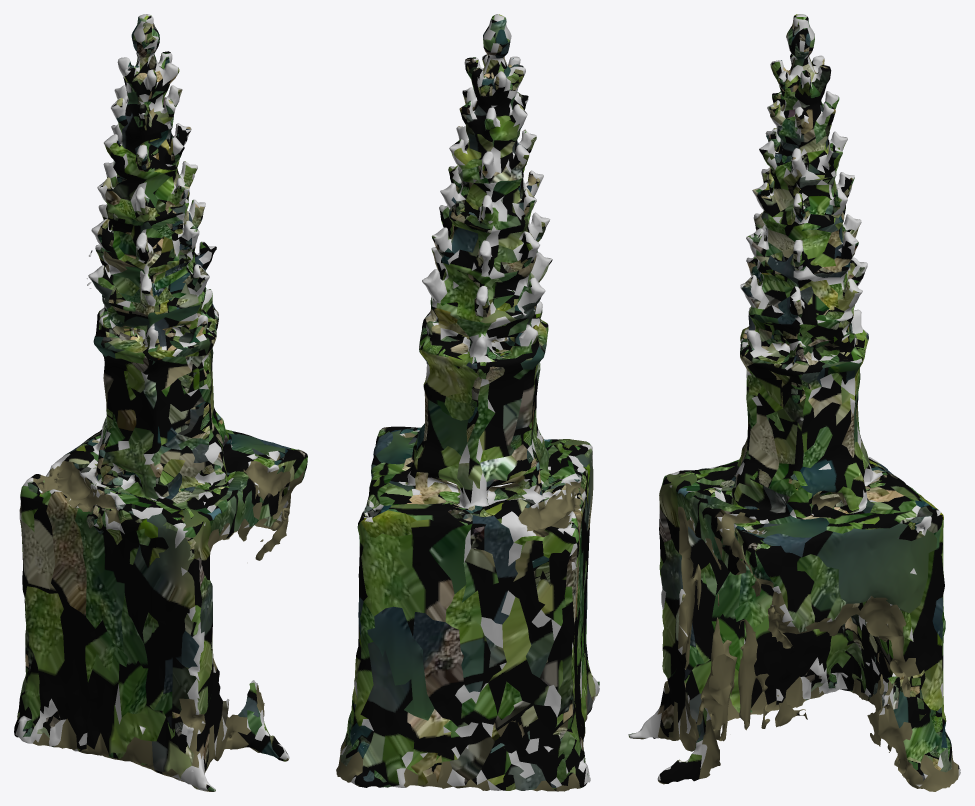
File: Cer_mica_nvg_melb_lowpoly.obj
The picture shows the model from 3 angles, left to right: view 1: azimuth 30°, elevation 25°; view 2: azimuth 150°, elevation 25°; view 3: azimuth 270°, elevation 25°; orthographic projection. The views are drawn at different scales.
Size of the model in its own units: 2.05 by 5.67 by 2.33.
